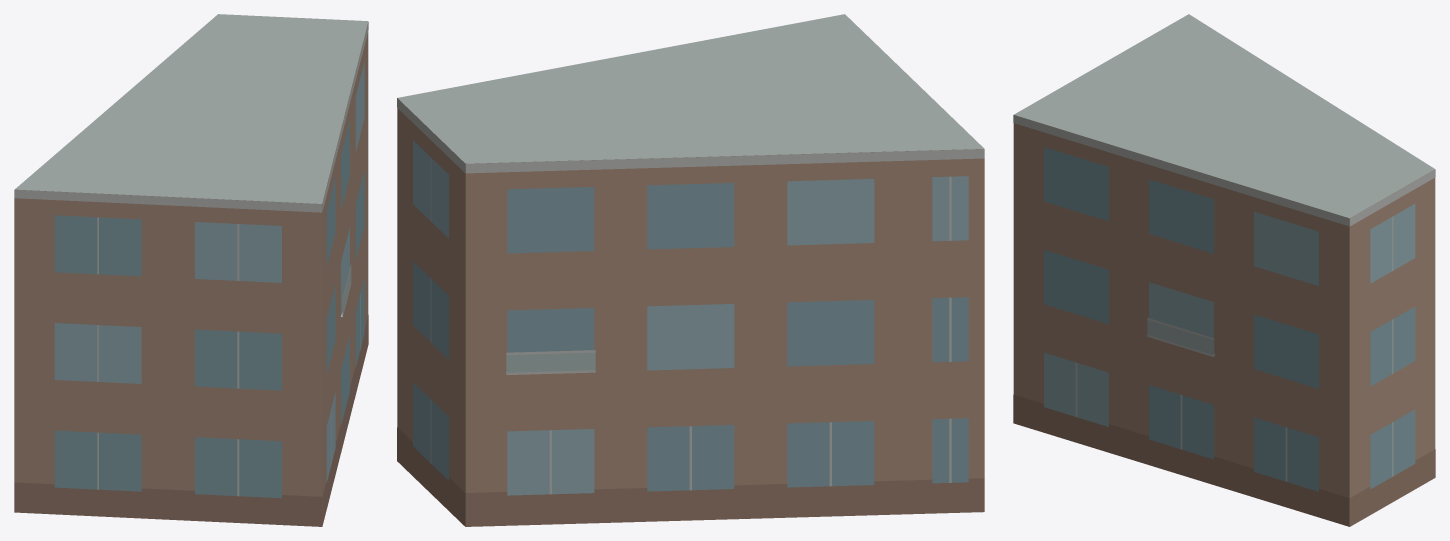
Rendered from survey-upis-32705823.glb.
3 renders of one model, left to right at view 1: azimuth 30°, elevation 25°; view 2: azimuth 150°, elevation 25°; view 3: azimuth 270°, elevation 25°, orthographic. The views are drawn at different scales.
Parts seen in each view (by area): view 1: survey-upis-32705823.tmp; view 2: survey-upis-32705823.tmp; view 3: survey-upis-32705823.tmp.
Boxes of the visible parts, x1,y1,x2,y2 form: survey-upis-32705823.tmp: (14, 14, 368, 526); survey-upis-32705823.tmp: (397, 14, 984, 526); survey-upis-32705823.tmp: (1013, 14, 1435, 526).
Size of the model in its own units: 13 by 9.15 by 11.35.
